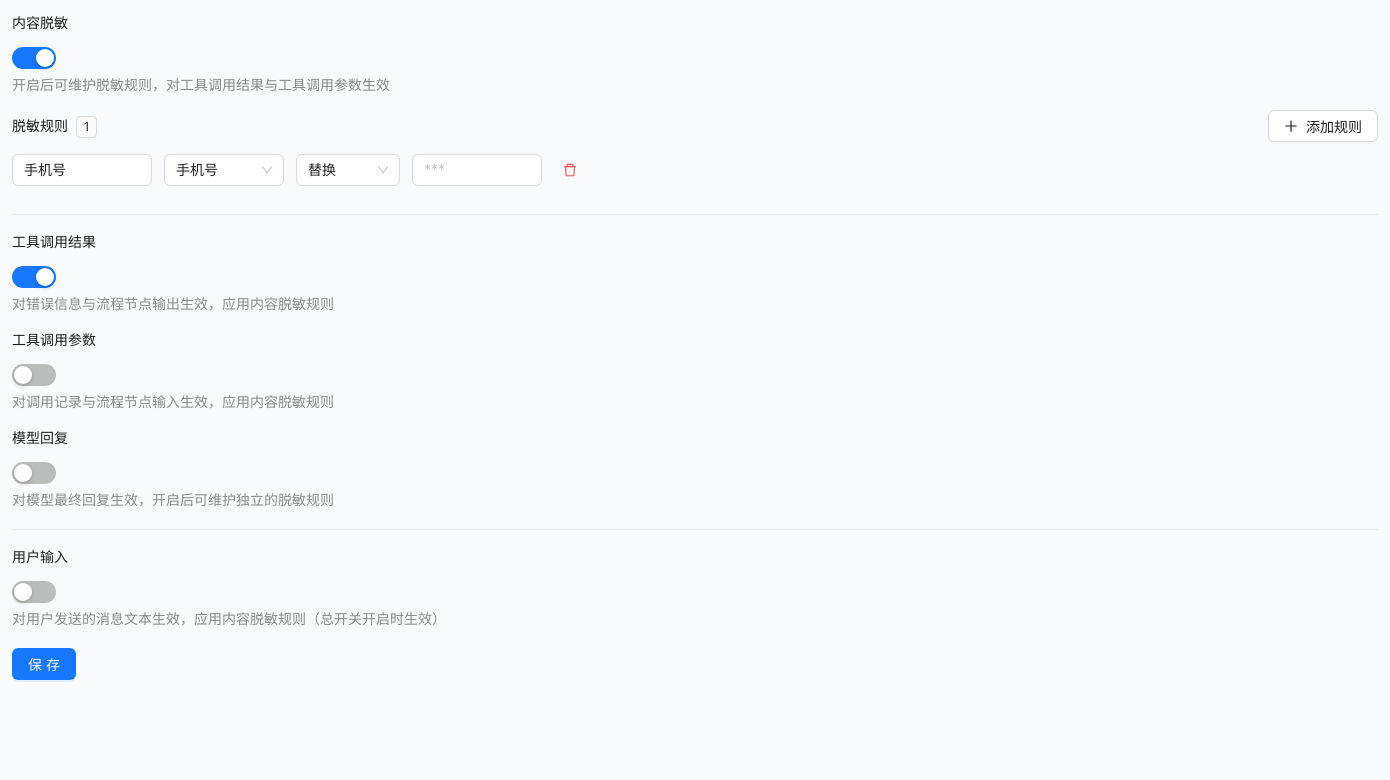
Test: AppSecuritySection（应用安全设置） › 模型回复规则独立维护且策略选项不含拦截，开启后与内容规则互不干扰
Check: the field showing "手机号" is shown, box x1=12 y1=154 x2=152 y2=186
Check: the field showing "邮箱" is not shown
Click the switch below "模型回复" at (34, 473), box x1=12 y1=462 x2=56 y2=484
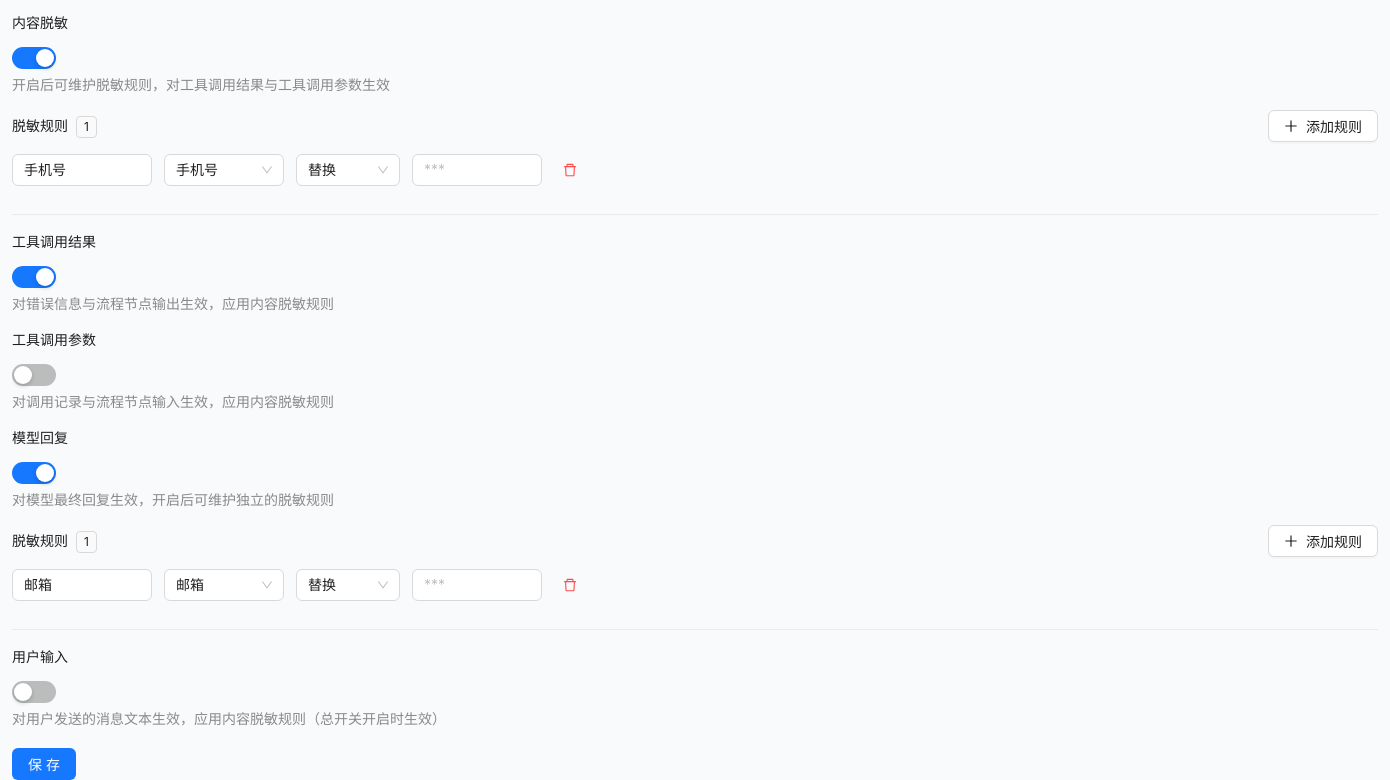
Check: the field showing "手机号" next to "手机号" is shown, box x1=12 y1=154 x2=152 y2=186
Check: the field showing "邮箱" next to "邮箱" is shown, box x1=12 y1=569 x2=152 y2=601
Check: the text "脱敏规则" is shown 2 times, box x1=12 y1=115 x2=68 y2=137; x1=12 y1=530 x2=68 y2=552
